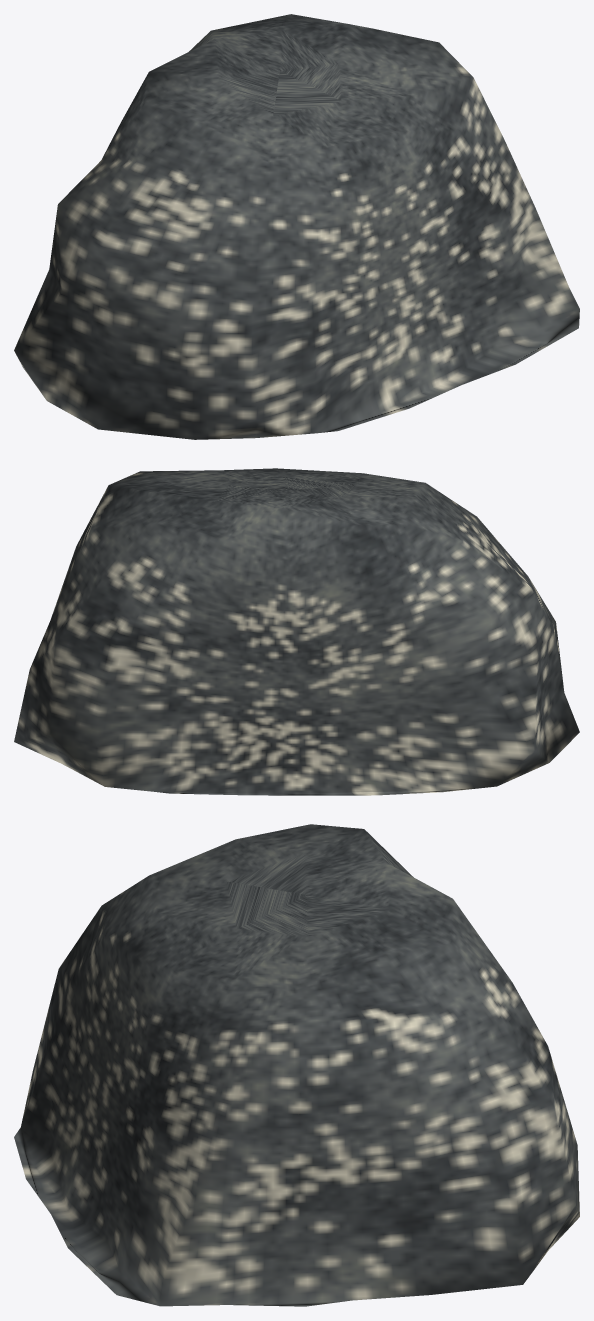
Rendered from rock_beach_barnacle_a.glb.
3 views of the same model, one above another, from view 1: azimuth 30°, elevation 25°; view 2: azimuth 150°, elevation 25°; view 3: azimuth 270°, elevation 25° (orthographic). The views are drawn at different scales.
Parts seen in each view (by area): view 1: rock_beach_barnacle_a; view 2: rock_beach_barnacle_a; view 3: rock_beach_barnacle_a.
Boxes of the visible parts, box(x1,y1,x2,y2) form: rock_beach_barnacle_a: box(14, 14, 579, 439); rock_beach_barnacle_a: box(14, 468, 579, 795); rock_beach_barnacle_a: box(14, 824, 579, 1306).
Size of the model in its own units: 1.86 by 0.9242 by 1.6.
Materials: 1 (1 with a texture image).
